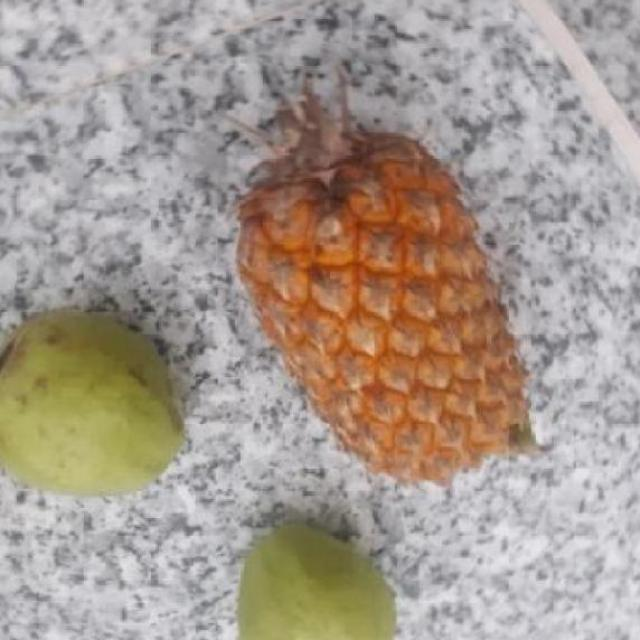guava: (1, 320, 194, 494), (234, 529, 403, 640)
pineapple: (242, 130, 552, 492)
